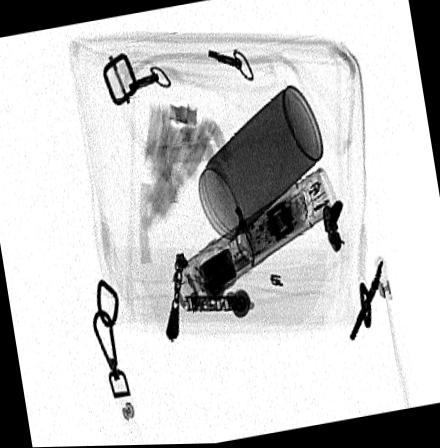Baton: (171, 166, 339, 314)
